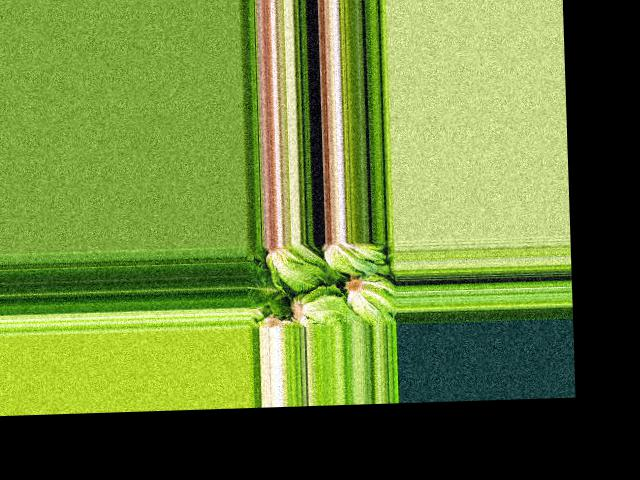lettuce: (245, 273, 282, 308)
